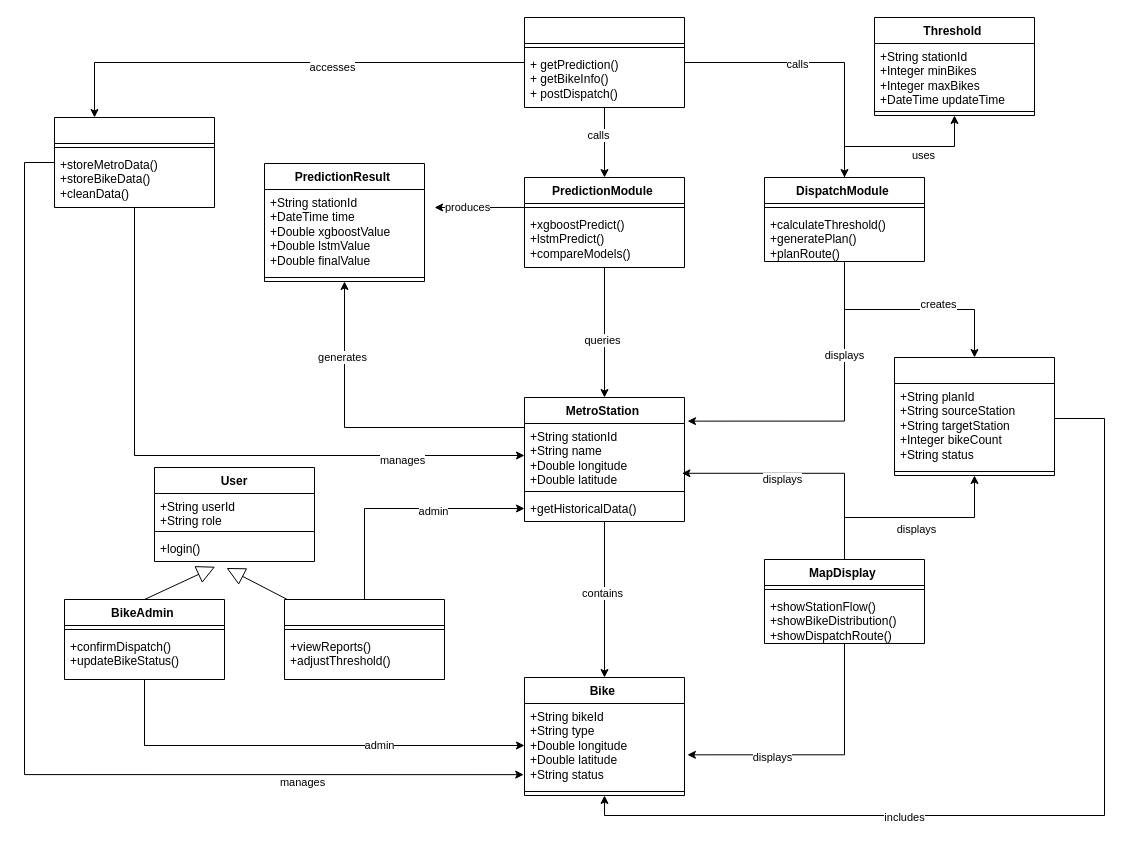
Some shapes in this 1130 by 841 pixel diagram are drawn without their labels. Here are the shapes that lost their labels. From the top down, the box of each, then its label:
(524, 16, 684, 108): APIService
(54, 116, 214, 208): DataManager
(894, 356, 1054, 476): DispatchPlan
(284, 598, 444, 680): MetroAdmin
